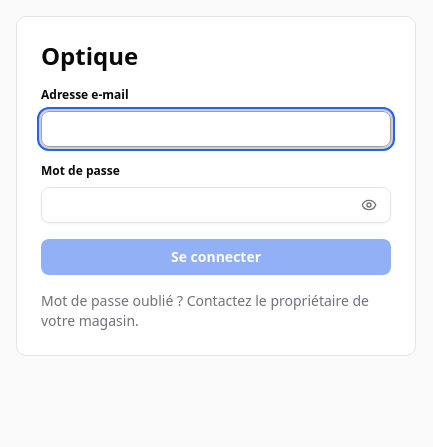
Test case: /connexion › une panne du service affiche sa phrase, sans code ni anglais
This screenshot has width=433, height=447.
Step 1. Type "karim.benali@optiqueanfa.ma" into the field labelled "Adresse e-mail" → (216, 129), box x1=41 y1=111 x2=391 y2=147
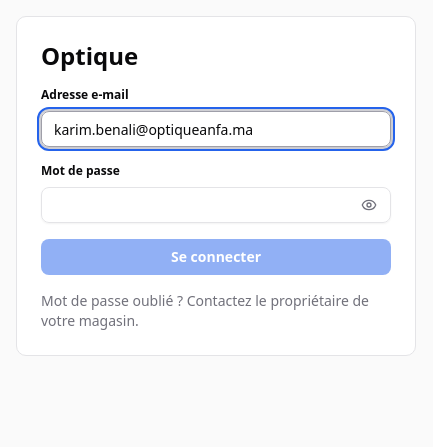
Step 2. Type "x" into the password field labelled "Mot de passe" → (216, 205), box x1=41 y1=187 x2=391 y2=223
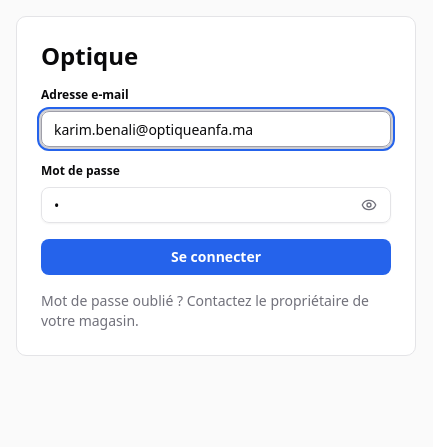
Step 3. Click the button "Se connecter" → (216, 257), box x1=41 y1=239 x2=391 y2=275
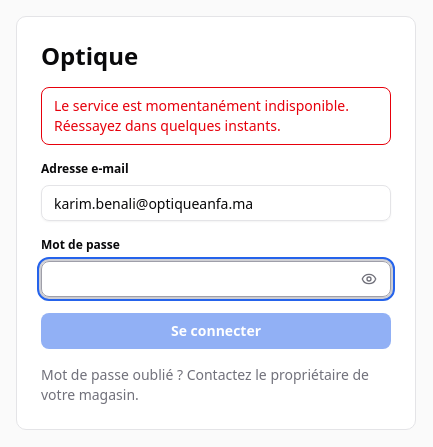
Check: the message reads "Le service est momentanément indisponible. Réessayez dans quelques instants.", box x1=54 y1=96 x2=349 y2=135
